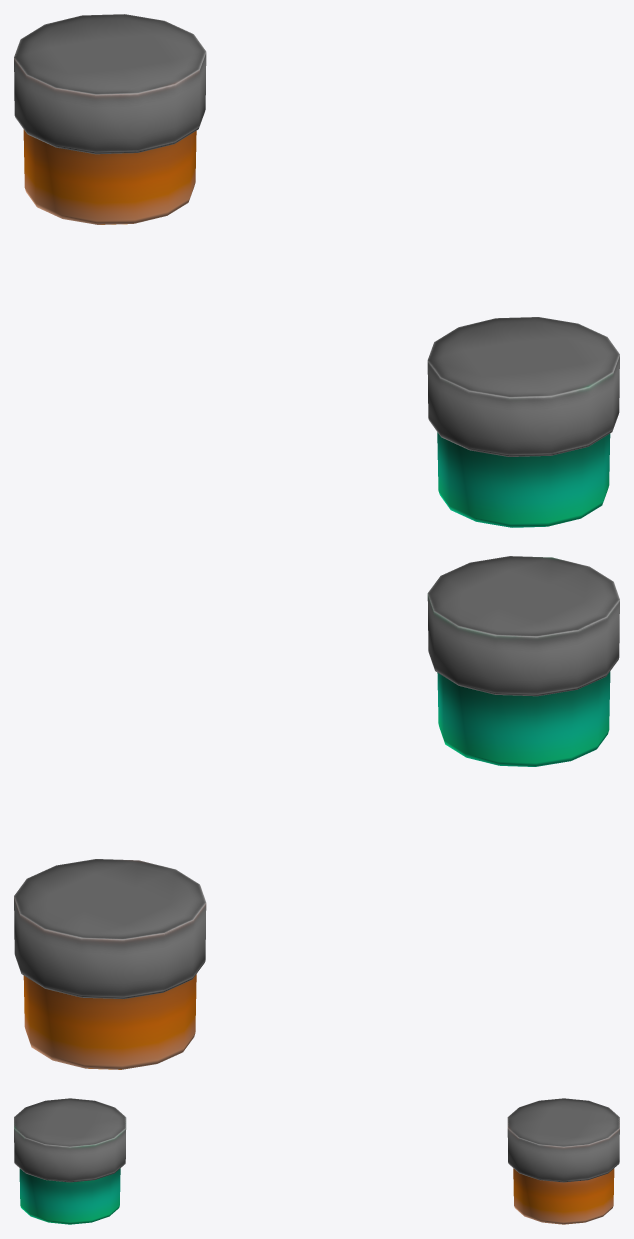
File: BOTONES_FURTIVO.fbx
The picture shows the model from 3 angles, top to bottom: view 1: azimuth 30°, elevation 25°; view 2: azimuth 150°, elevation 25°; view 3: azimuth 270°, elevation 25°; orthographic projection. The views are drawn at different scales.
Parts seen in each view (by area): view 1: BOTON_REINICIO, BOTON_INICIAR; view 2: BOTON_INICIAR, BOTON_REINICIO; view 3: BOTON_REINICIO, BOTON_INICIAR.
Boxes of the visible parts, x1,y1,x2,y2 form: BOTON_REINICIO: (14, 14, 206, 224); BOTON_INICIAR: (427, 317, 619, 527); BOTON_INICIAR: (427, 556, 619, 766); BOTON_REINICIO: (14, 859, 206, 1069); BOTON_REINICIO: (507, 1098, 619, 1224); BOTON_INICIAR: (14, 1098, 126, 1224).
Bounding box in the file's own units: 5.54 × 4.43 × 29.18.
